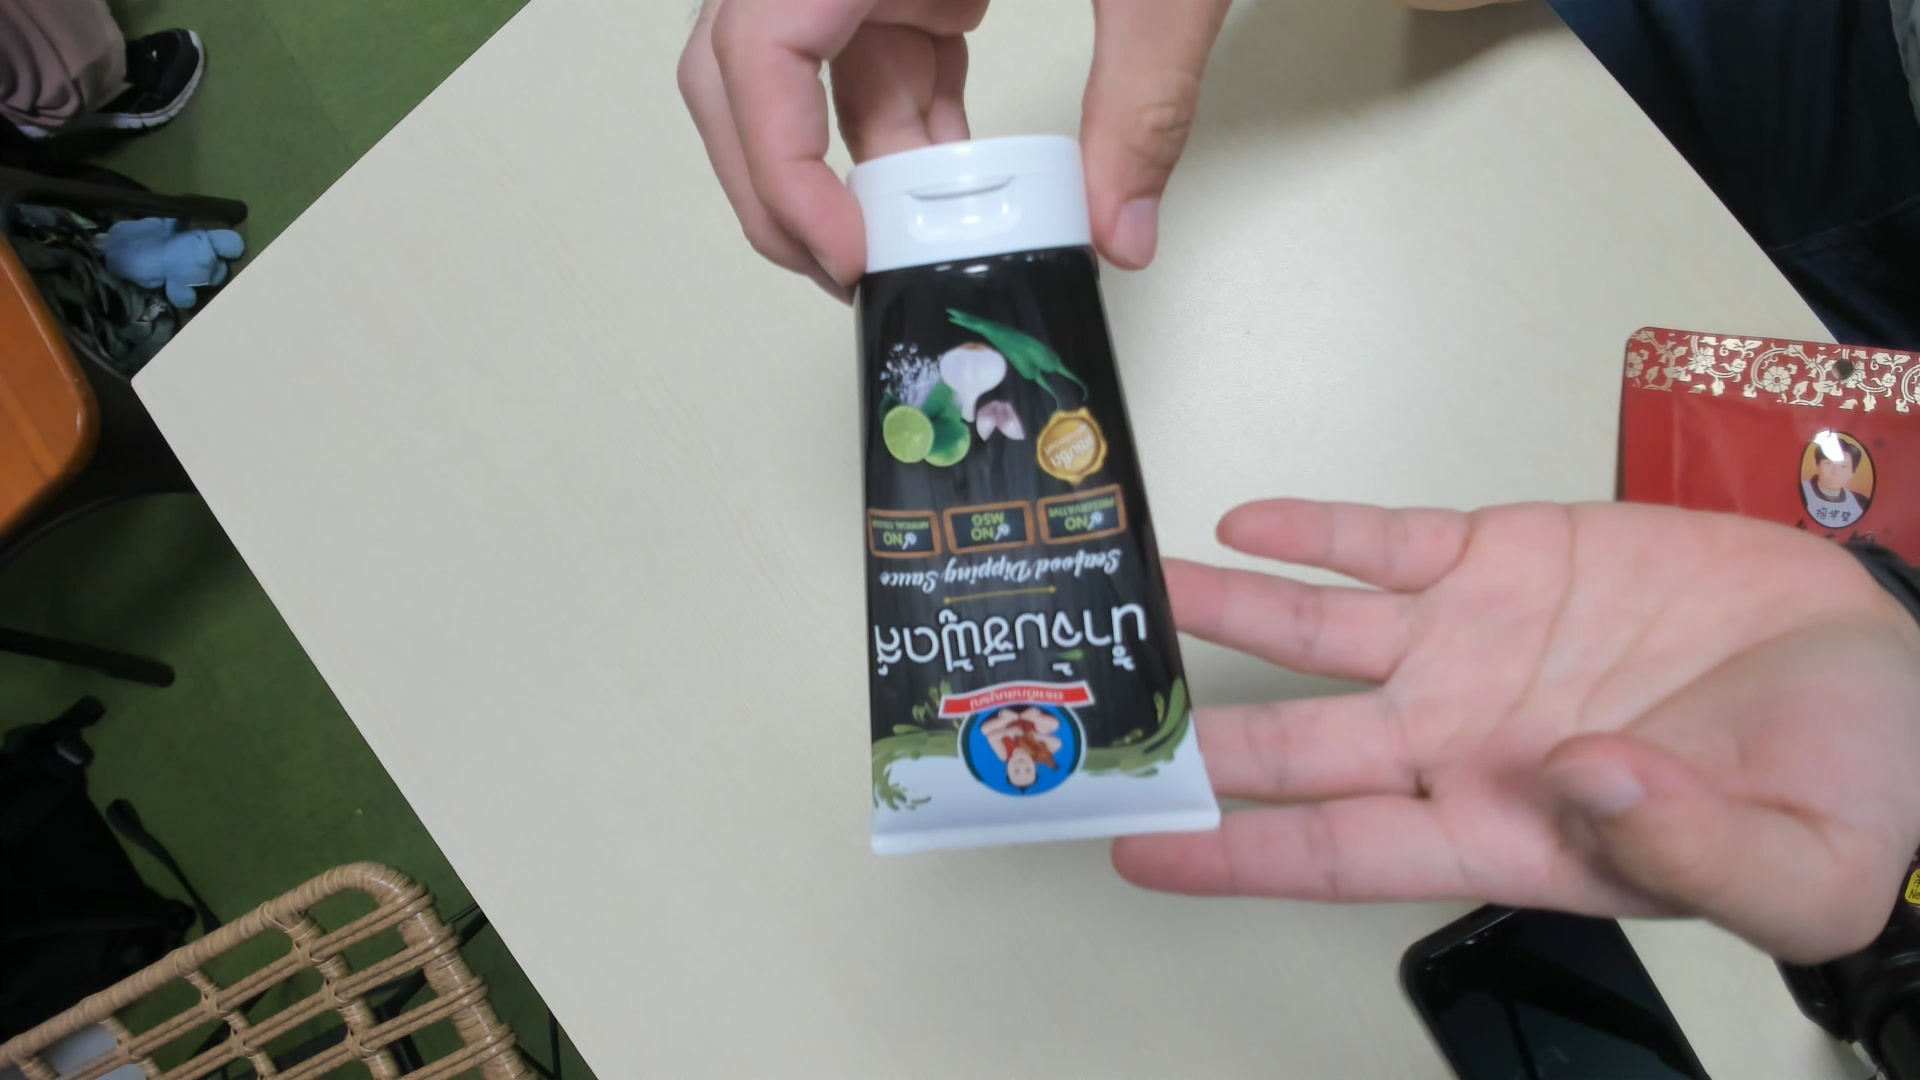OtherSauceDressing_100-199g_NonHalal_NonHealthy: (841, 133, 1218, 865)
